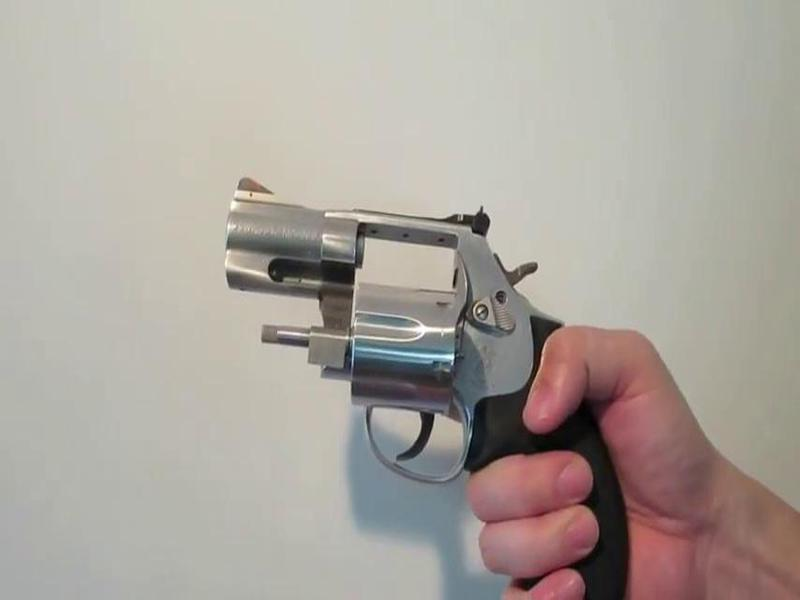Revolver: (197, 164, 642, 600)
